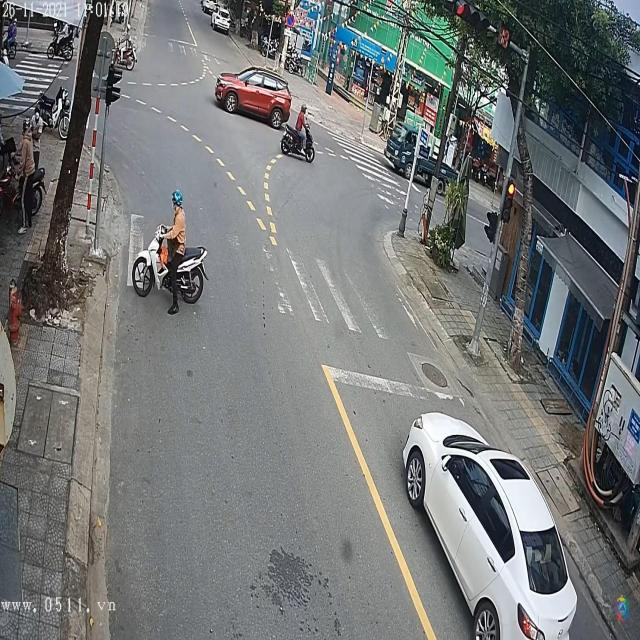car: (403, 414, 580, 638), (214, 70, 294, 127)
motorcycle: (132, 226, 209, 311), (280, 118, 316, 162)
truck: (384, 122, 460, 197)
